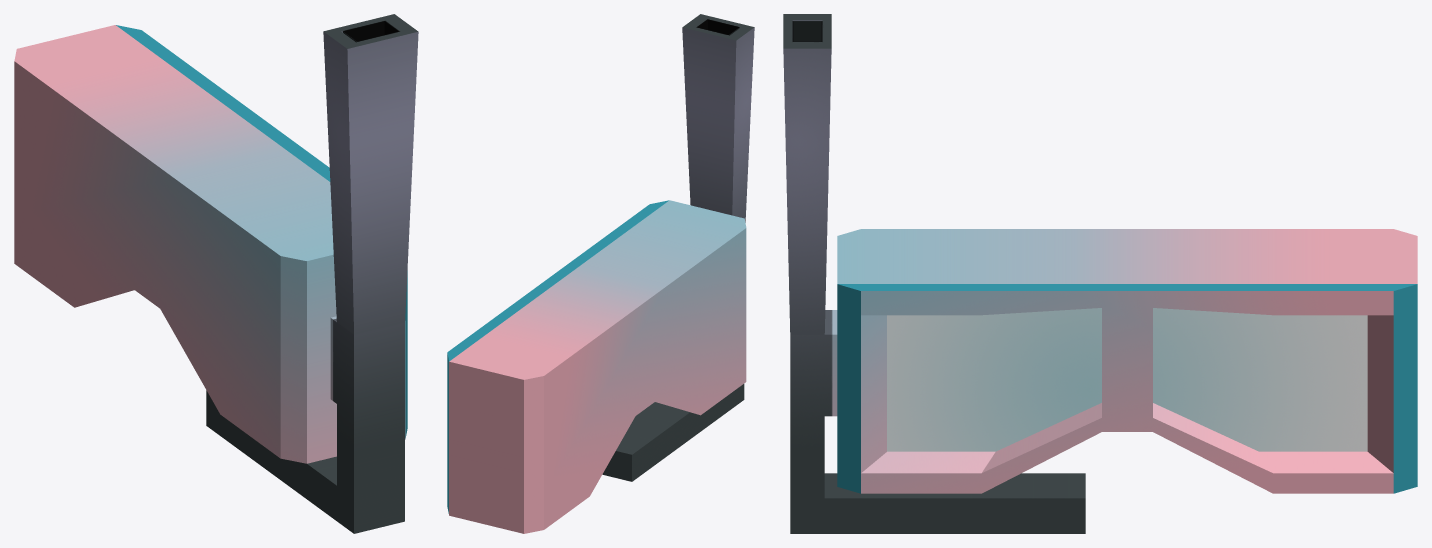
Rendered from pipe.fbx.
The picture shows the model from 3 angles, left to right: view 1: azimuth 30°, elevation 25°; view 2: azimuth 150°, elevation 25°; view 3: azimuth 270°, elevation 25°; orthographic projection. The views are drawn at different scales.
Visible parts, largest first — view 1: Cube; view 2: Cube; view 3: Cube.
Boxes of the visible parts, x1,y1,x2,y2 form: Cube: (14,14,418,533); Cube: (447,14,754,533); Cube: (783,14,1417,533).
Size of the model in its own units: 50.68 by 186 by 219.
